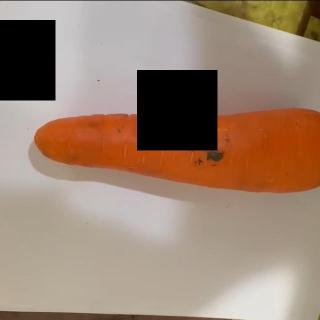carrot: (31, 99, 320, 199)
